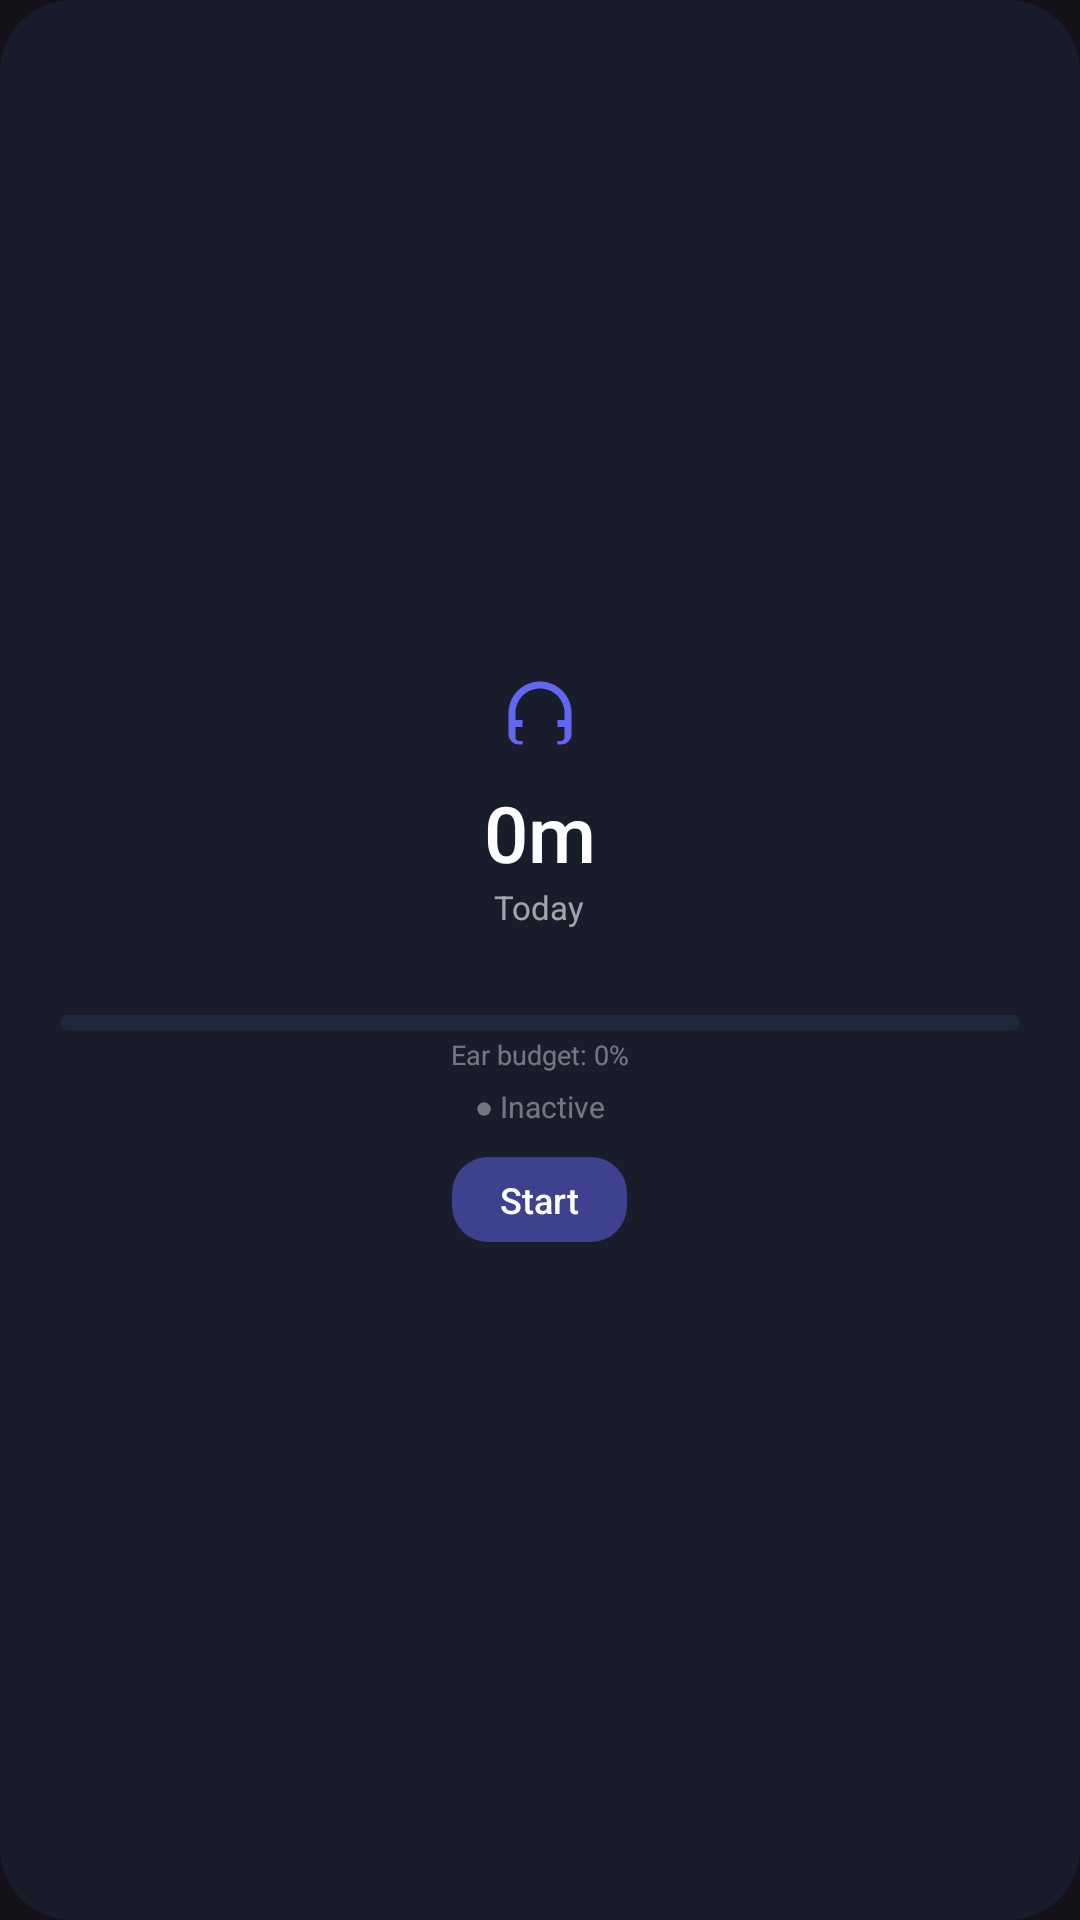

Icons on this 1080px x 1920px Android screen, each with its box as (x1, y1, x2, y2):
headphones: (508, 681, 572, 745)
